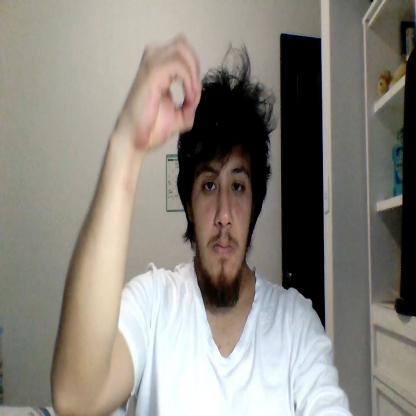O: (125, 34, 203, 151)
